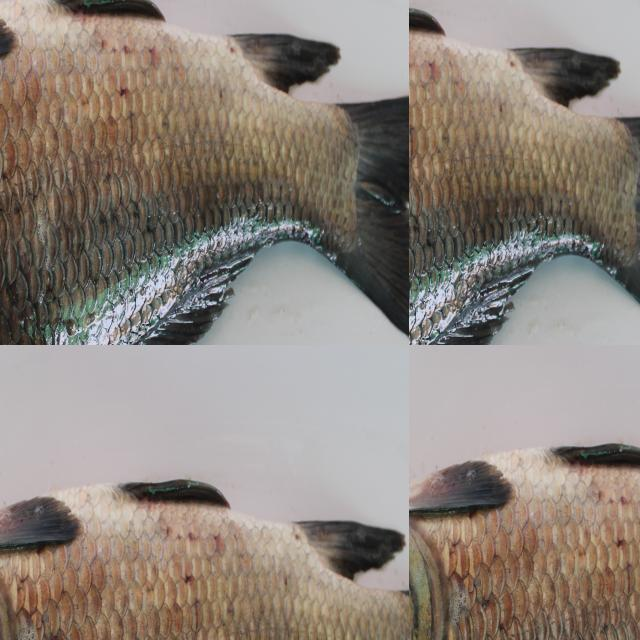fish: (409, 354, 640, 640)
